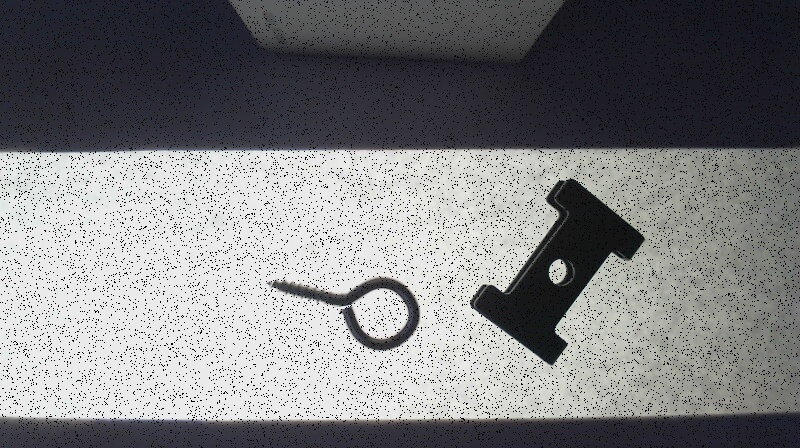O001: (262, 267, 421, 351)
O002: (469, 179, 648, 365)
